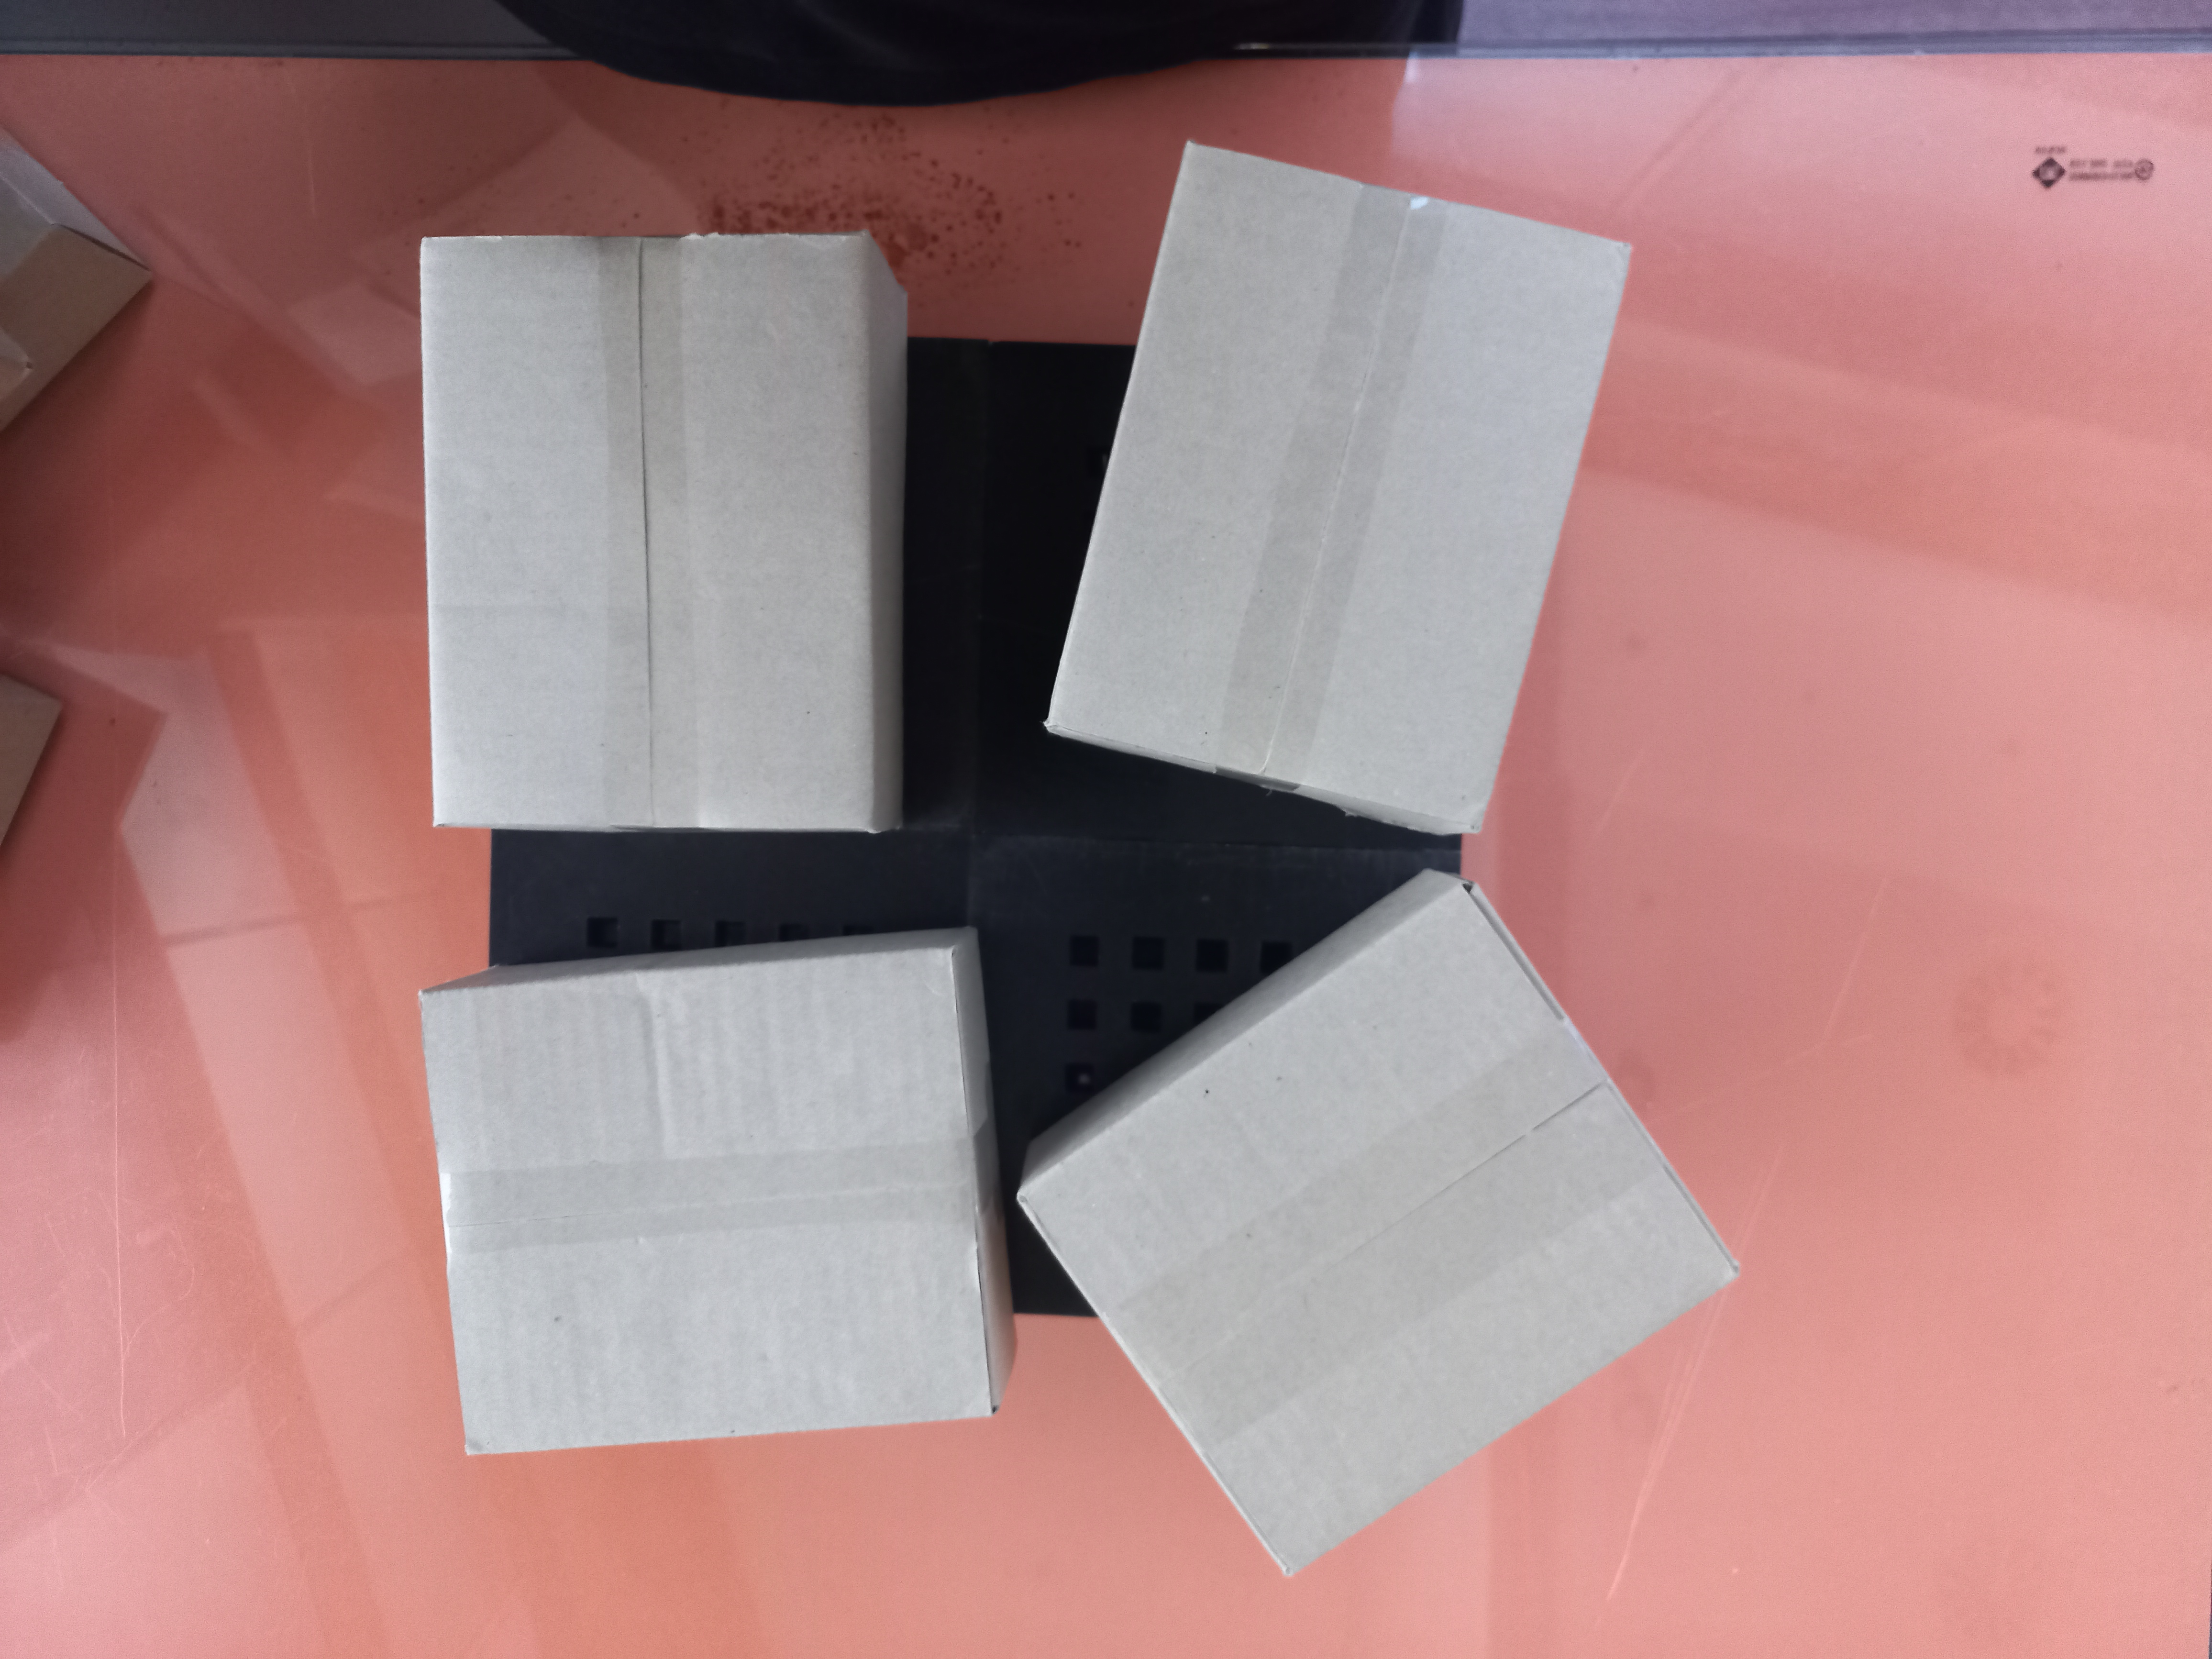box: (1011, 857, 1755, 1591), (1044, 127, 1633, 839), (410, 928, 1004, 1464), (412, 218, 910, 838)
